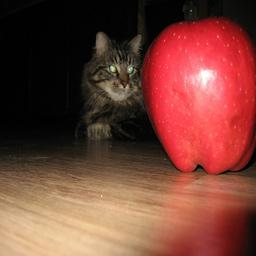apple: (139, 18, 255, 178)
